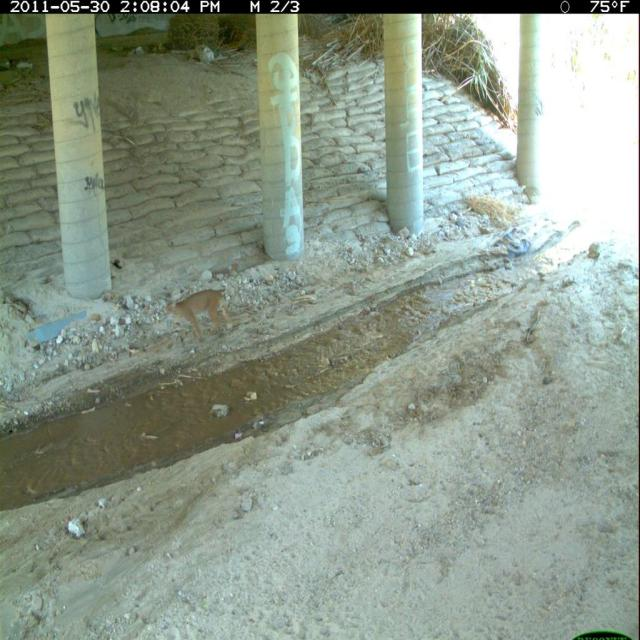bobcat: (162, 282, 238, 349)
